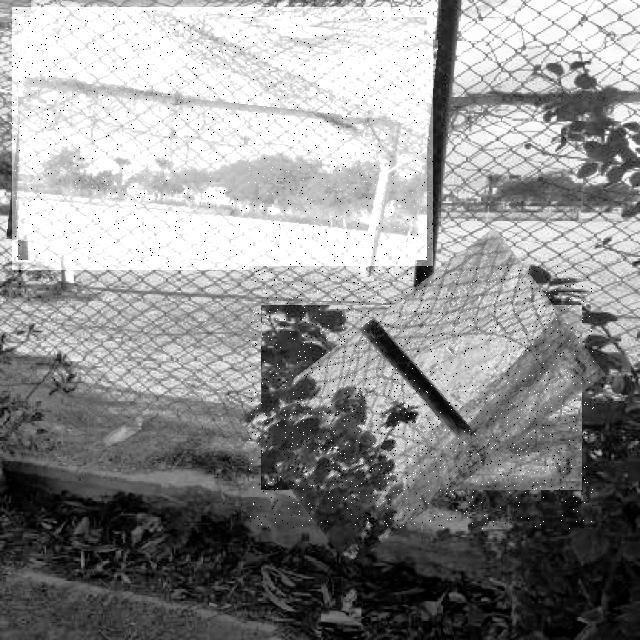anomaly-fence: (12, 7, 433, 270), (249, 266, 594, 529)
